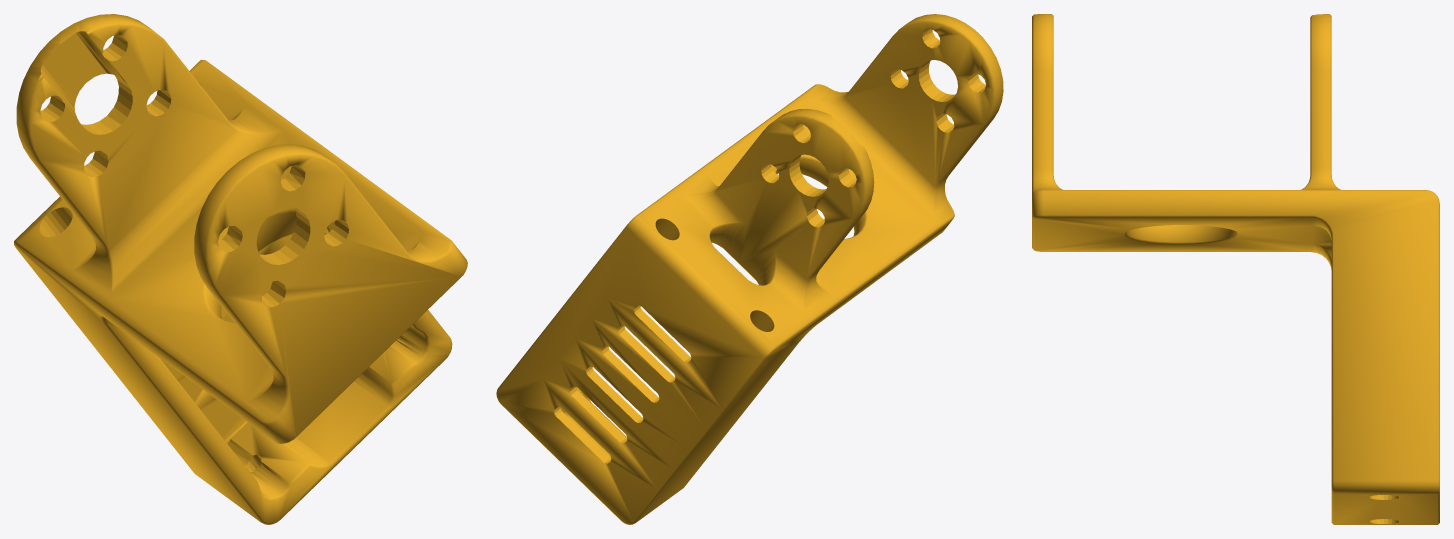
Rendered from right_arm_link4_arm.dae.
3 renders of one model, left to right at view 1: azimuth 30°, elevation 25°; view 2: azimuth 150°, elevation 25°; view 3: azimuth 270°, elevation 25°, orthographic. The views are drawn at different scales.
Visible parts, largest first — view 1: node; view 2: node; view 3: node.
Part boxes in pixels (<box>): node: <box>14,14,467,524</box>; node: <box>496,14,1003,524</box>; node: <box>1032,14,1439,524</box>.
Size of the model in its own units: 0.0569 by 0.0585 by 0.0687.
